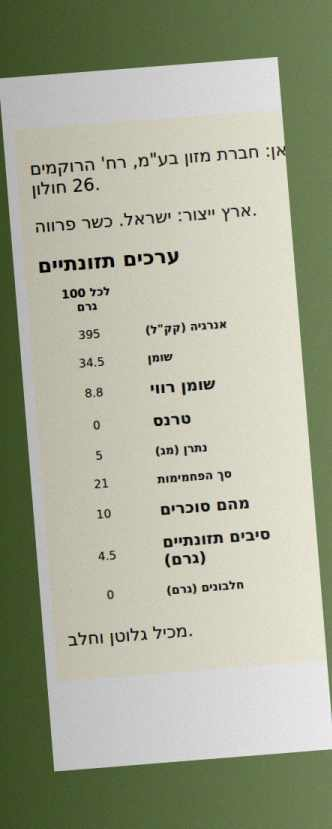carbs: (92, 475, 111, 493)
energy: (76, 325, 103, 344)
fat: (76, 353, 107, 372)
protein: (104, 586, 116, 604)
